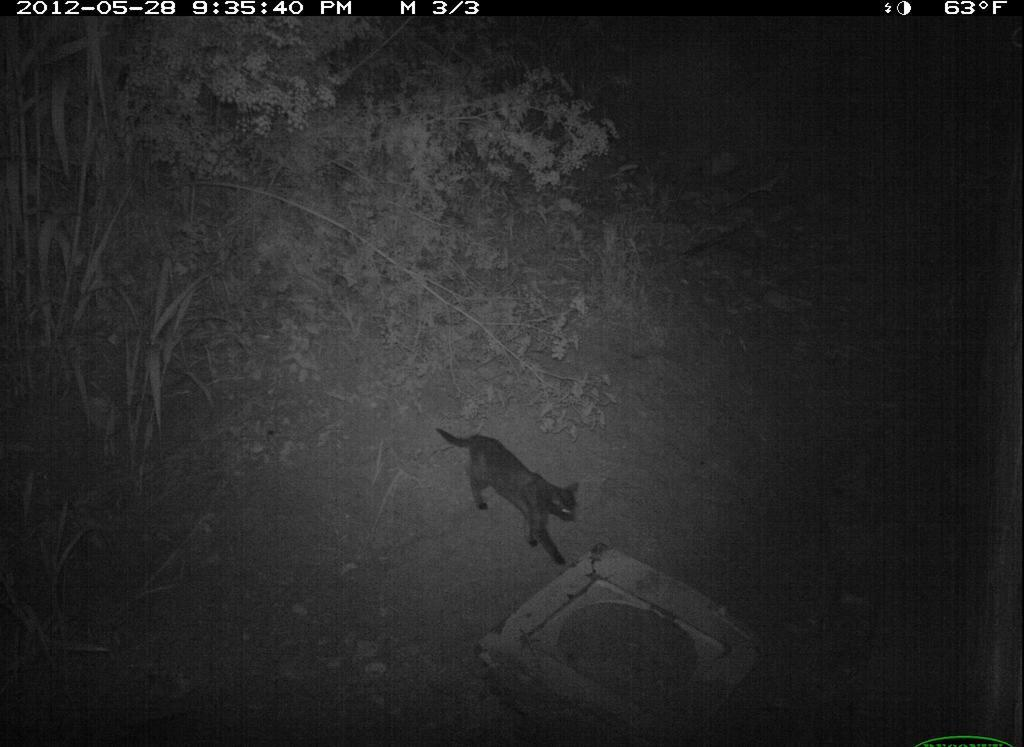cat: (432, 420, 587, 574)
